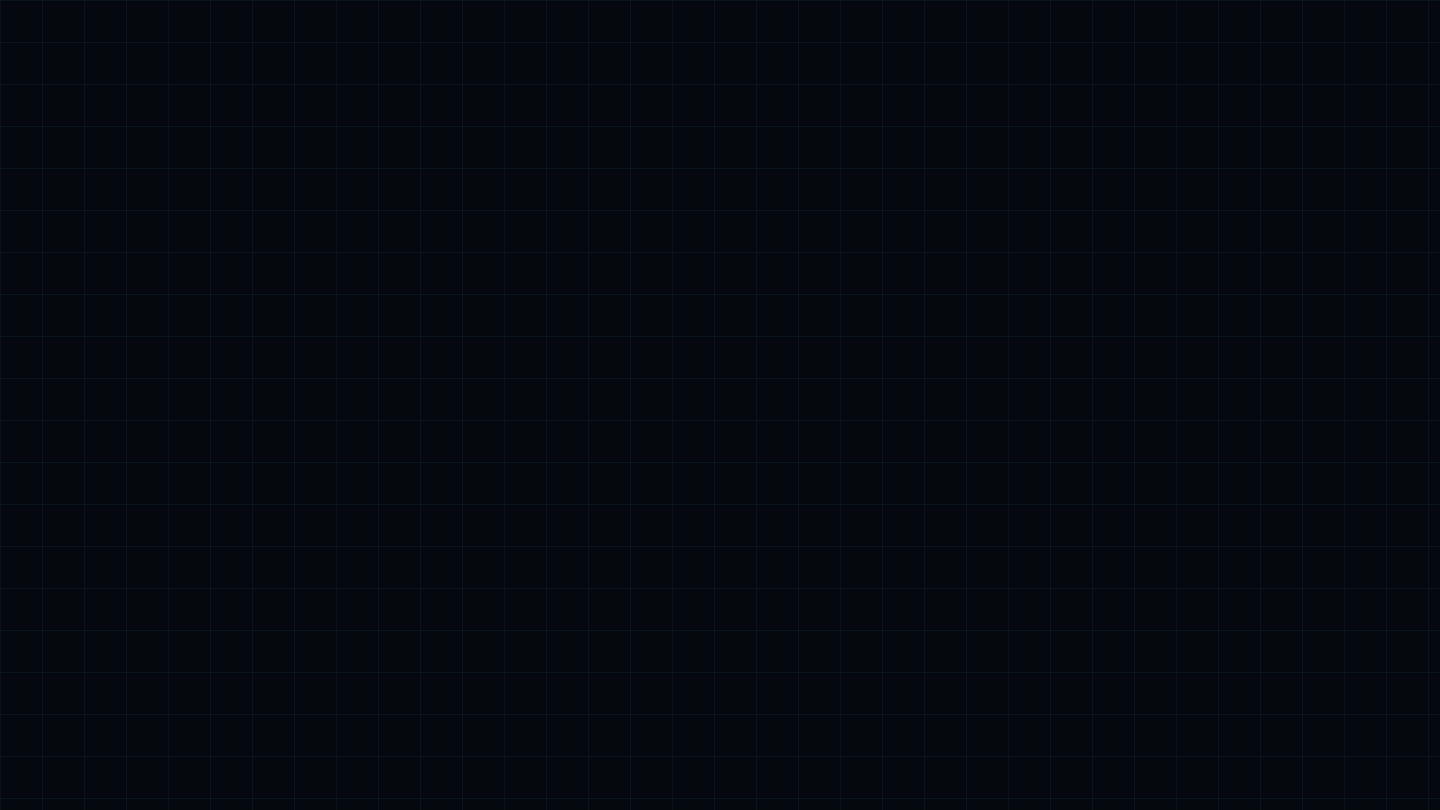
Test: CommandPalette › navigates to the highlighted command on Enter
Press k
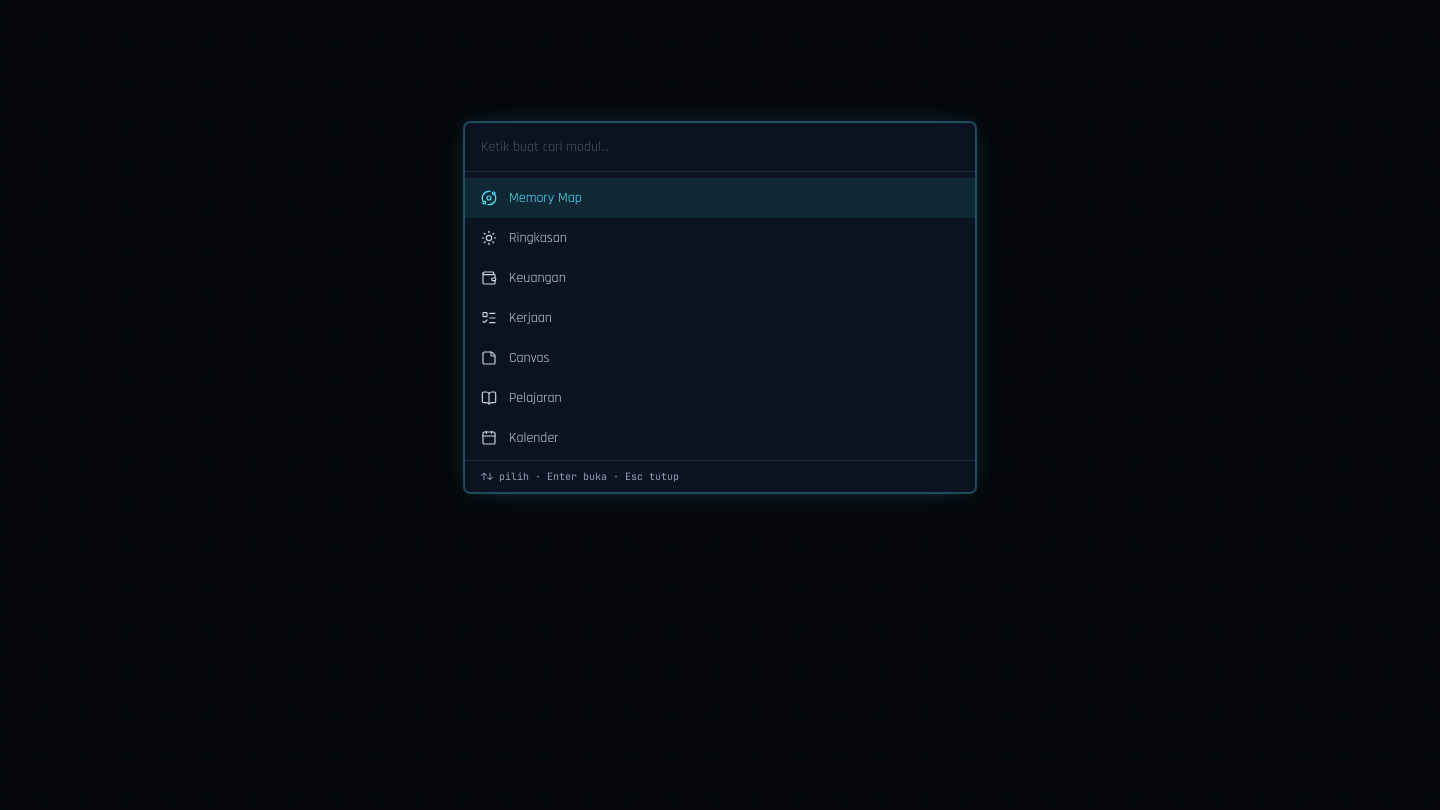
Type "jurnal" into the field with placeholder "Ketik buat cari modul..." at (720, 147), box [465,122,975,172]
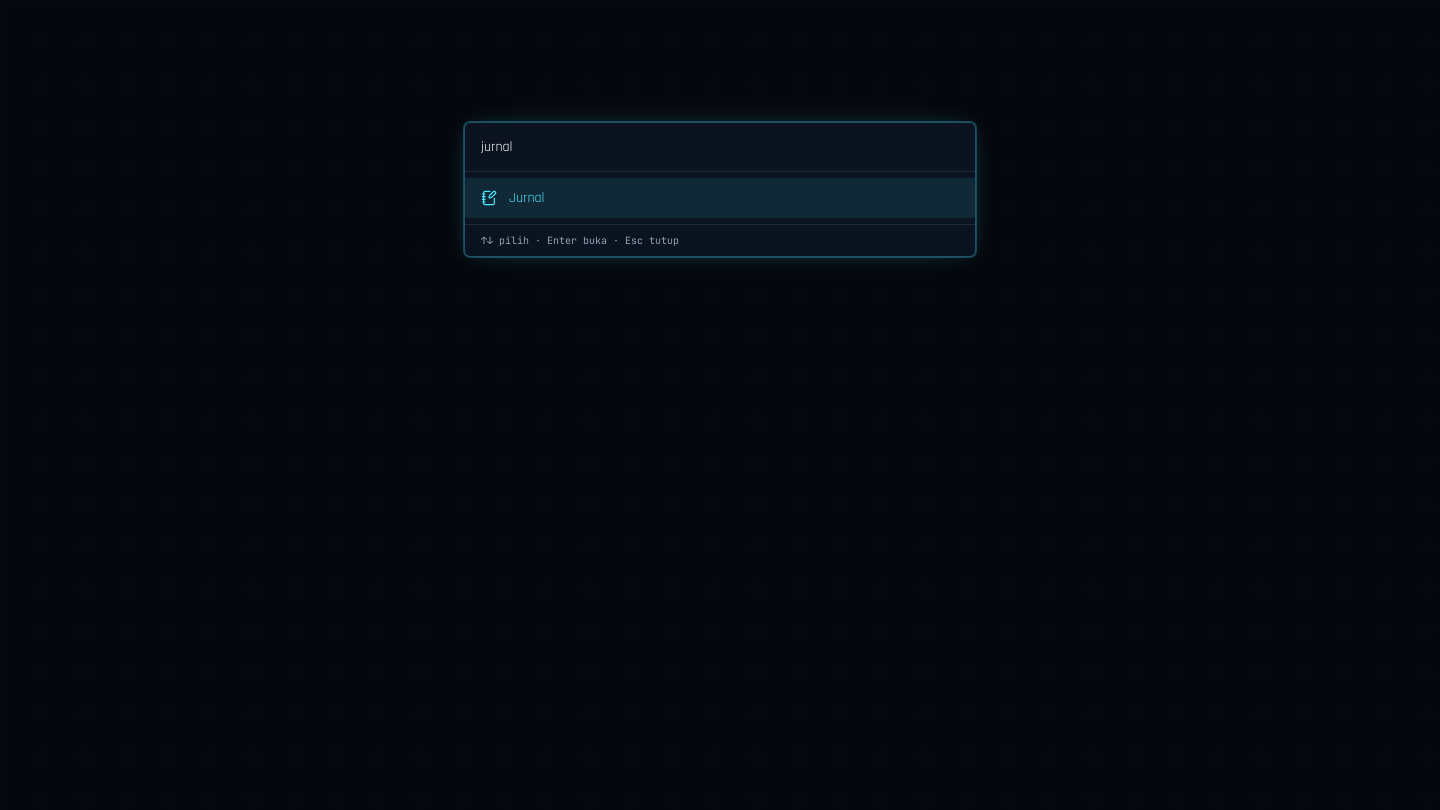
Press Enter in the field with placeholder "Ketik buat cari modul...", box [465,122,975,172]
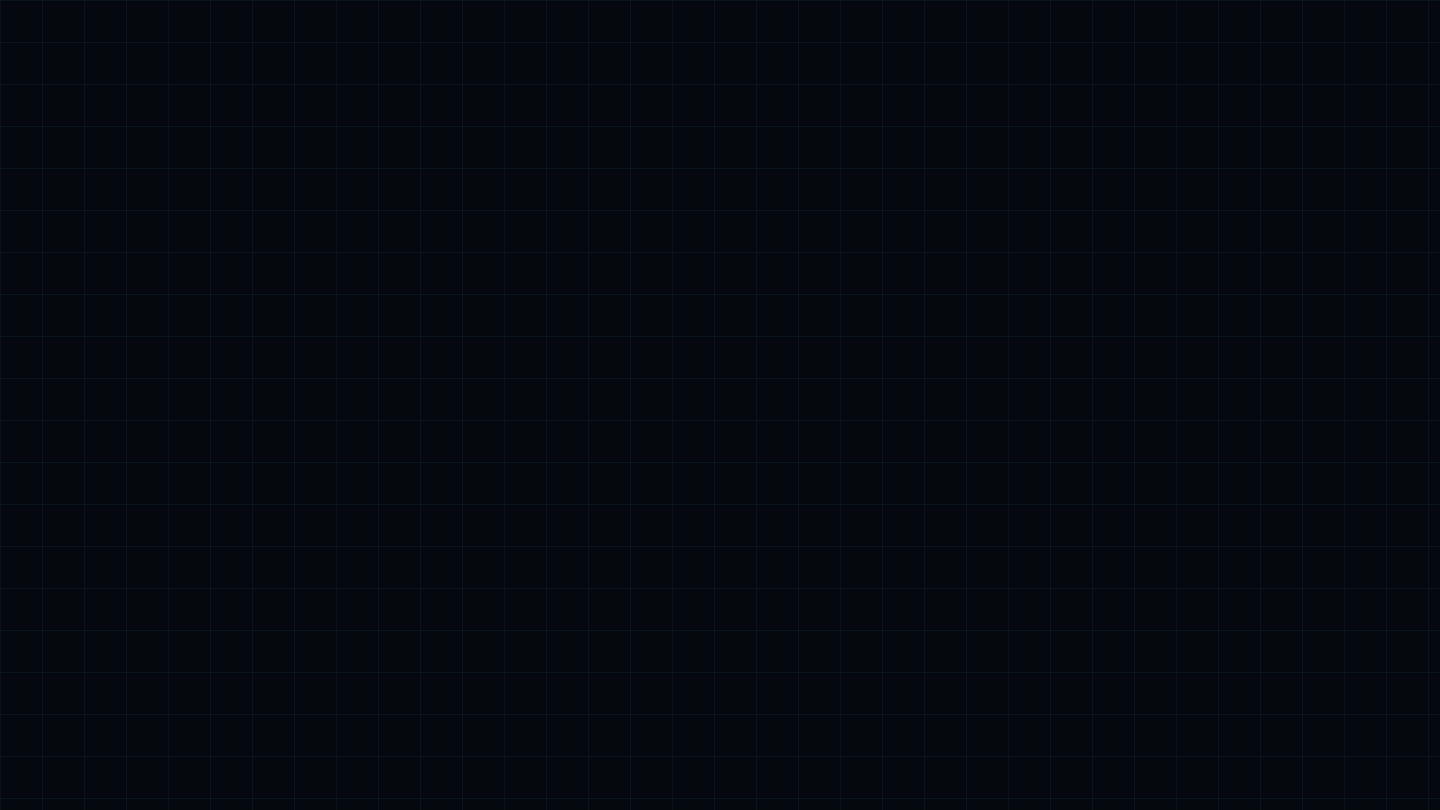
expect the dialog is gone: met
